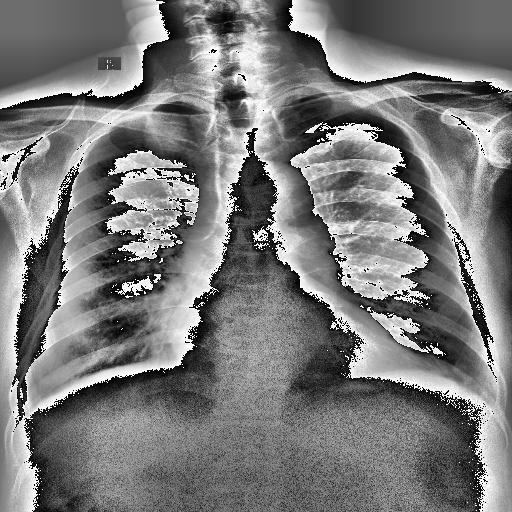0- Aortic enlargement: (262, 160, 334, 276), (242, 159, 317, 244)
11- Pleural thickening: (20, 380, 30, 408)
13- Pulmonary fibrosis: (449, 364, 484, 392)
3- Cardiomegaly: (166, 296, 412, 368)
8- Nodule-Mass: (140, 109, 188, 154), (141, 113, 191, 155), (145, 112, 187, 159)
